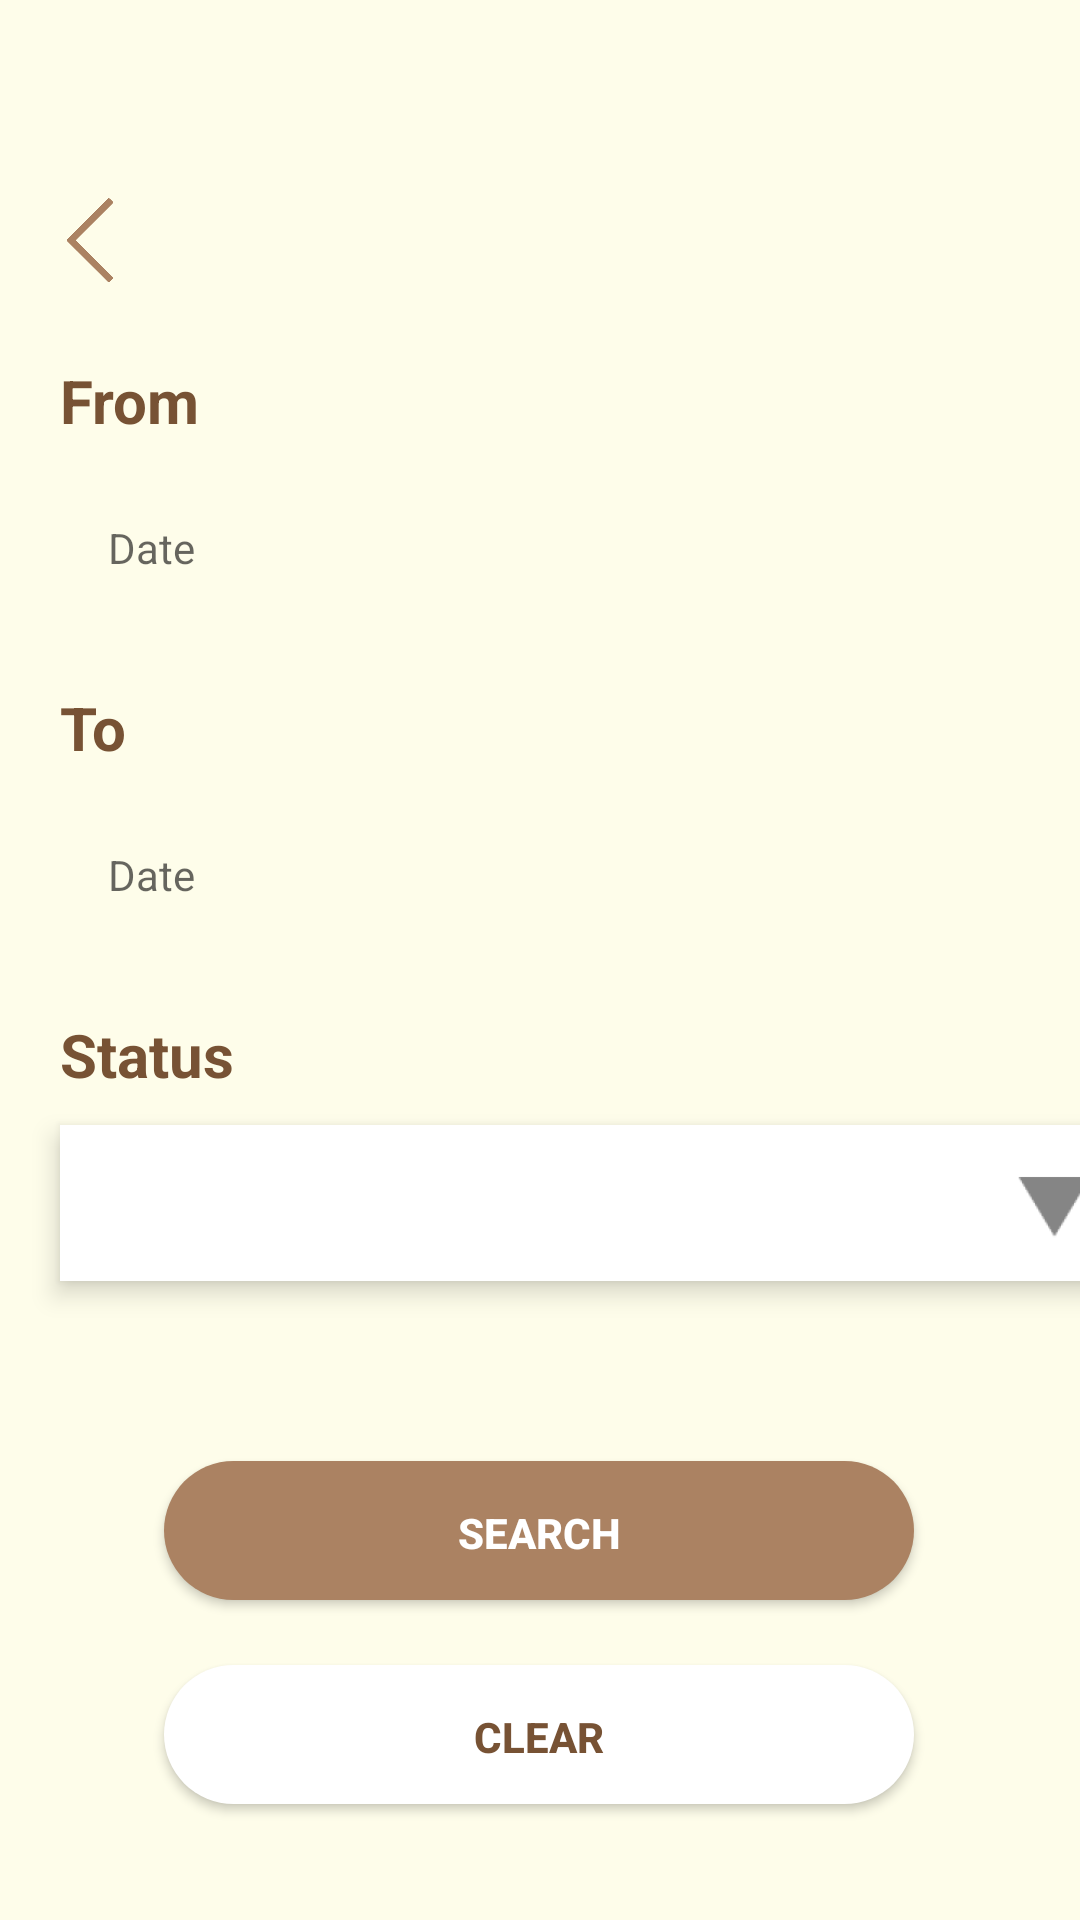

Icons on this 1080 × 1920 Android screen, each with its box as (x1, y1, x2, y2):
back: (67, 198, 113, 282)
